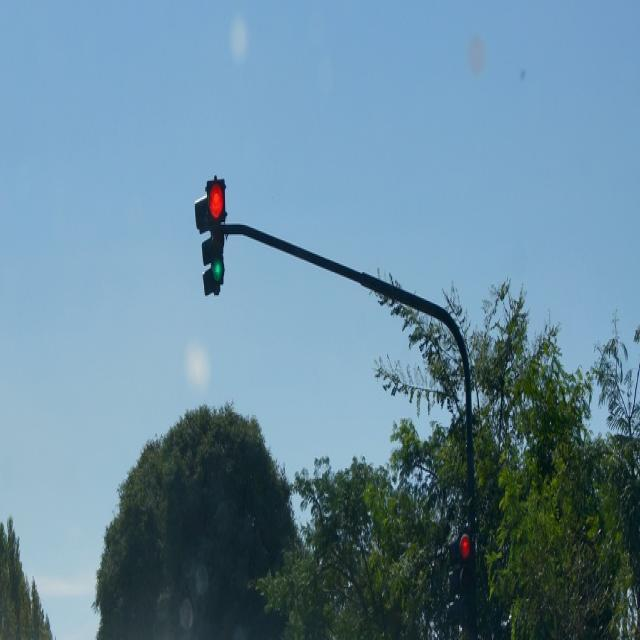traffic light: (194, 174, 226, 294), (445, 535, 475, 622)
